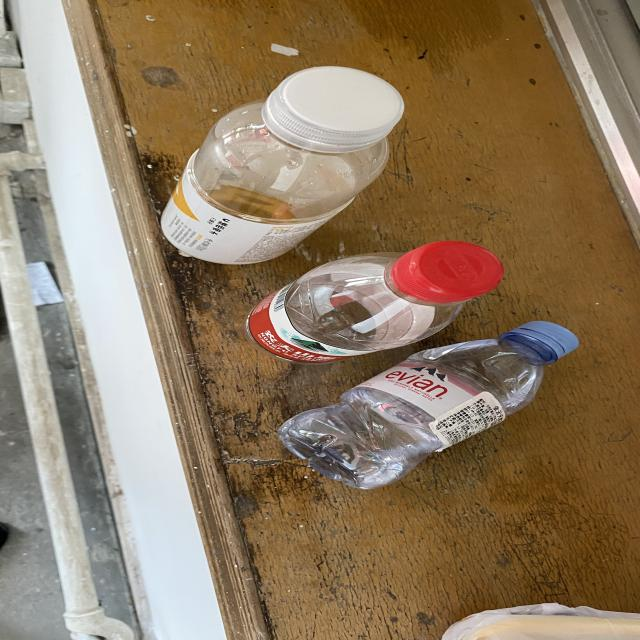Anorganik: (280, 308, 588, 499), (170, 46, 407, 262), (246, 234, 520, 355)
